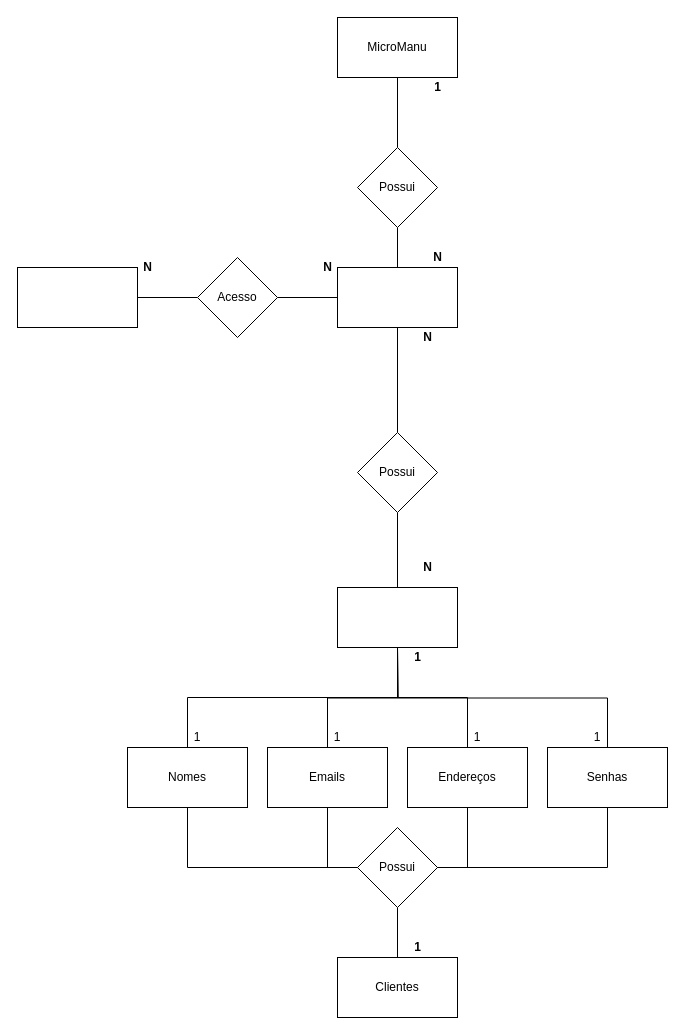
The diagram is 685 pixels wide and 1035 high, and some of its shapes have lost their labels. The shapes that lost their labels are listed below. From the top down, each one's centre as x and y in pixels, then its label:
At pixel 77 297: "Produto".
At pixel 397 297: "Colaboradores".
At pixel 397 617: "Acesso as informações do Produto".
